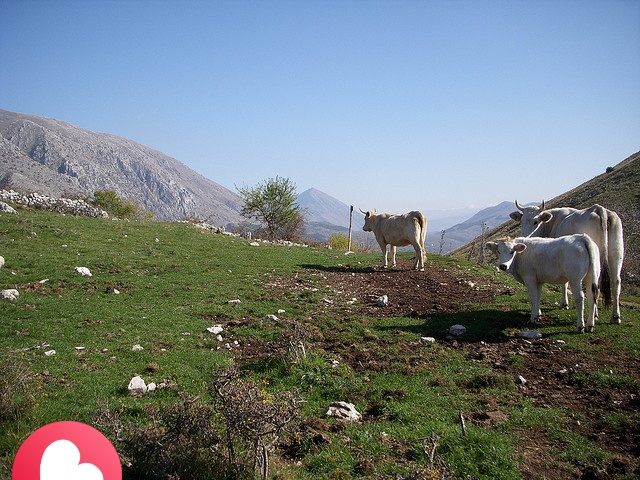love: (12, 421, 122, 480)
